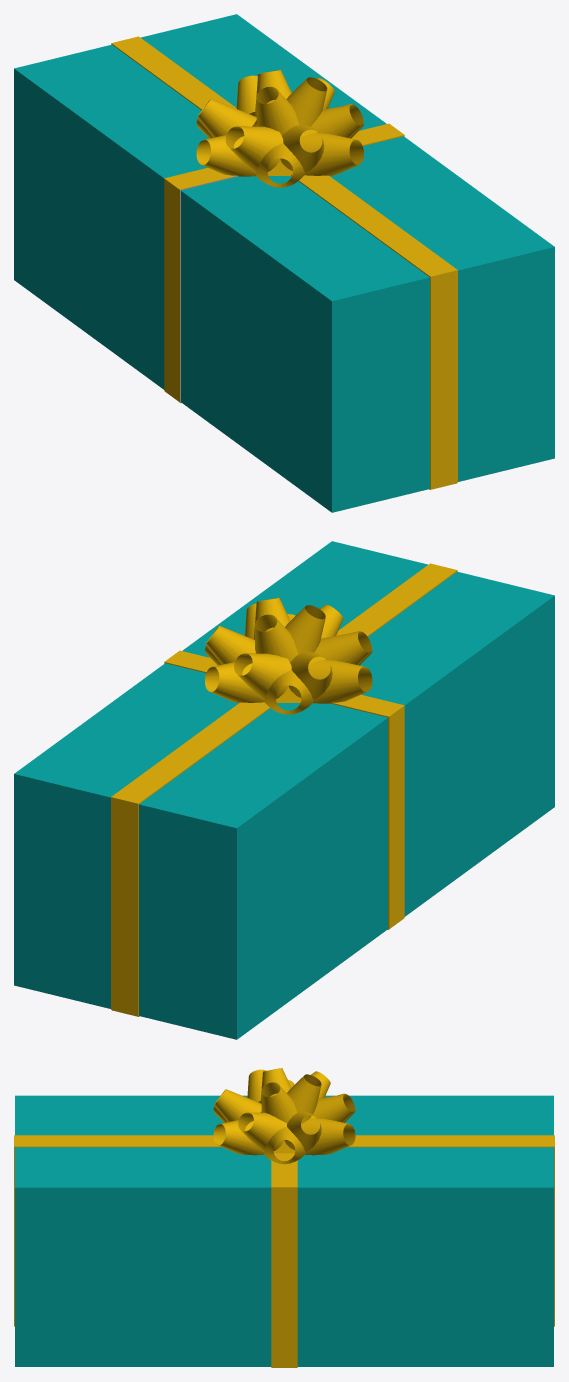
The model's file is Present_3.fbx.
3 views of the same model, one above another, from view 1: azimuth 30°, elevation 25°; view 2: azimuth 150°, elevation 25°; view 3: azimuth 270°, elevation 25° (orthographic). The views are drawn at different scales.
Parts seen in each view (by area): view 1: Present_3; view 2: Present_3; view 3: Present_3.
Boxes of the visible parts, x1,y1,x2,y2 form: Present_3: (14, 14, 554, 512); Present_3: (14, 541, 554, 1039); Present_3: (14, 1068, 554, 1367).
Bounding box in the file's own units: 33.38 × 41.2 × 82.06.
